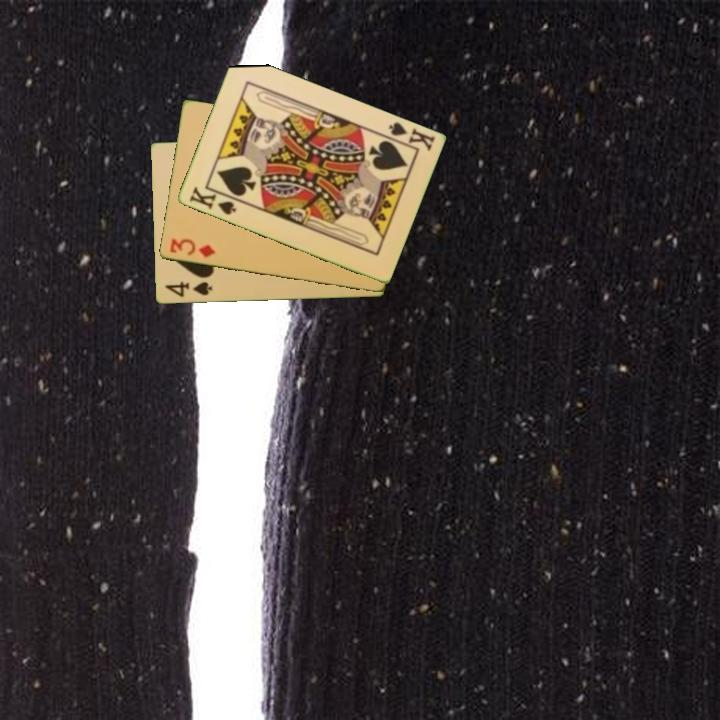3d: (166, 235, 218, 261)
4s: (161, 278, 215, 300)
Ks: (380, 119, 438, 154), (185, 183, 239, 218)
